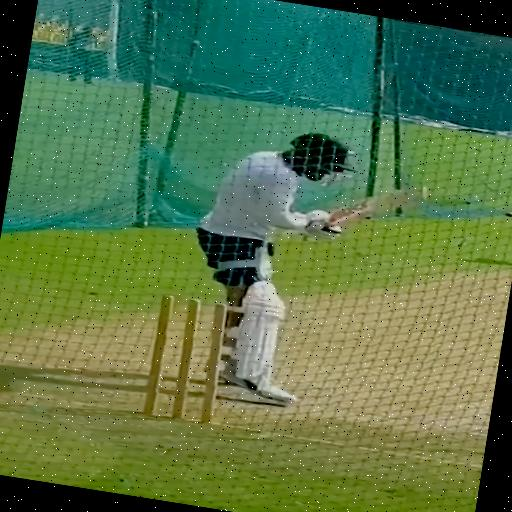Cricket bat: (330, 190, 423, 227)
